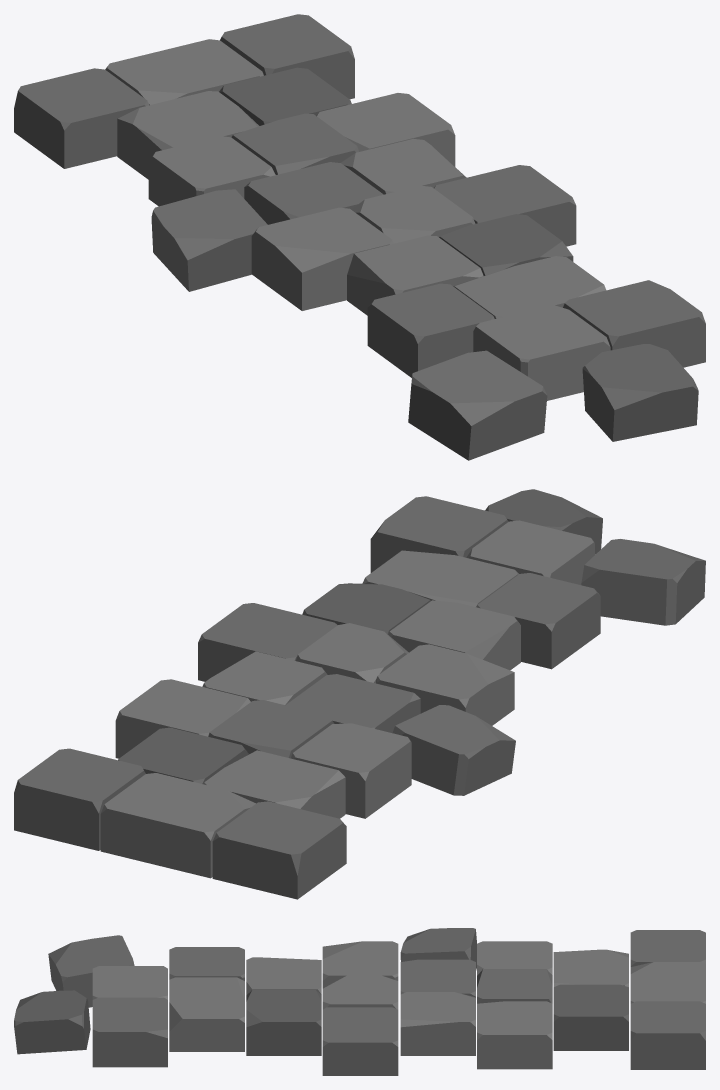
The model's file is Tile_05.fbx.
The picture shows the model from 3 angles, top to bottom: view 1: azimuth 30°, elevation 25°; view 2: azimuth 150°, elevation 25°; view 3: azimuth 270°, elevation 25°; orthographic projection. The views are drawn at different scales.
Visible parts, largest first — view 1: Tile_05_LOD0; view 2: Tile_05_LOD0; view 3: Tile_05_LOD0.
Boxes of the visible parts, left/top/right/bottom form: Tile_05_LOD0: left=14, top=14, right=705, bottom=460; Tile_05_LOD0: left=14, top=489, right=705, bottom=899; Tile_05_LOD0: left=14, top=928, right=705, bottom=1075.
Size of what is drawn, in the model's own units: 1.17 by 0.2114 by 2.82.
